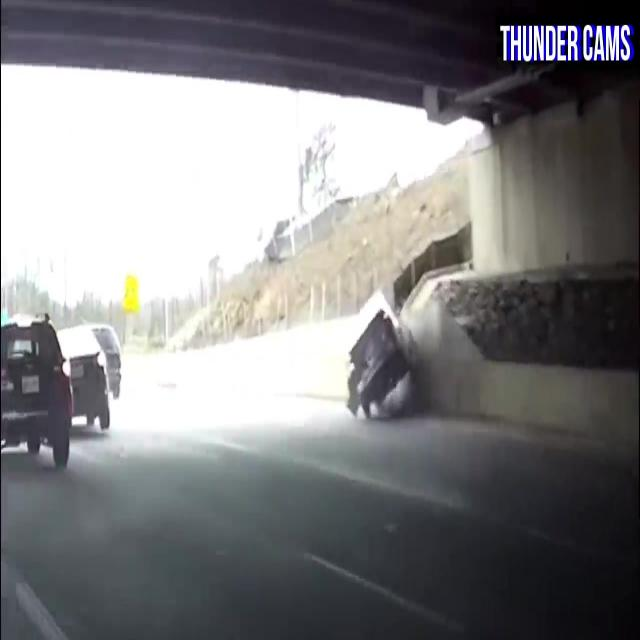accident: (334, 287, 426, 431)
